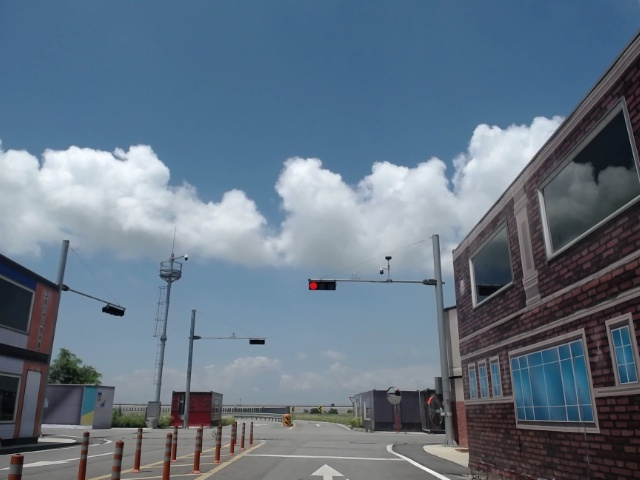red_3: (308, 281, 336, 291)
